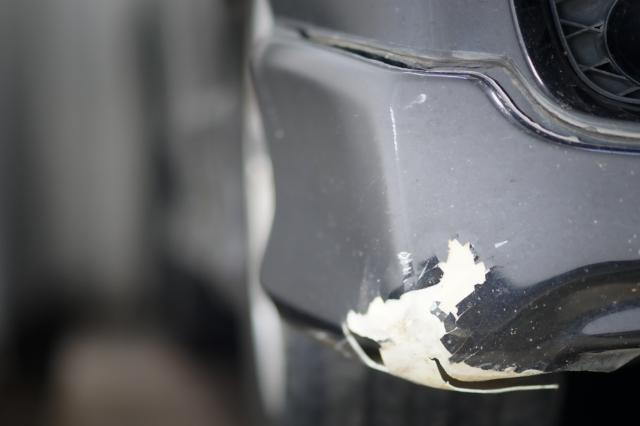Bumper: (335, 160, 564, 413)
